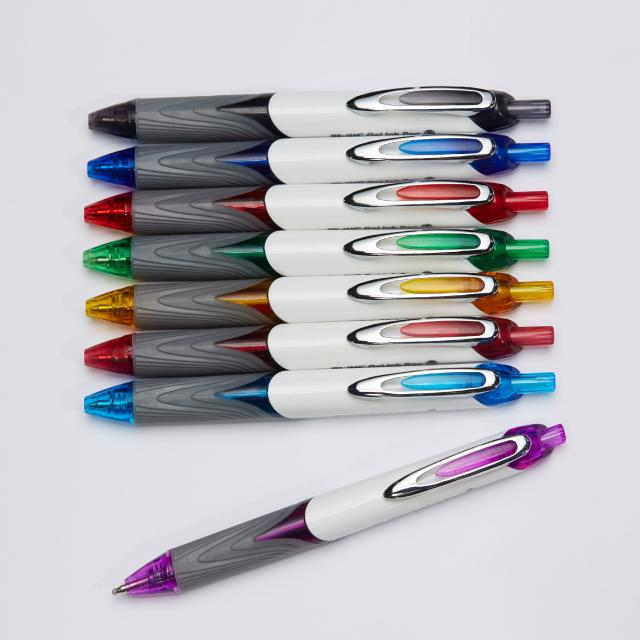pen: (84, 91, 574, 592)
